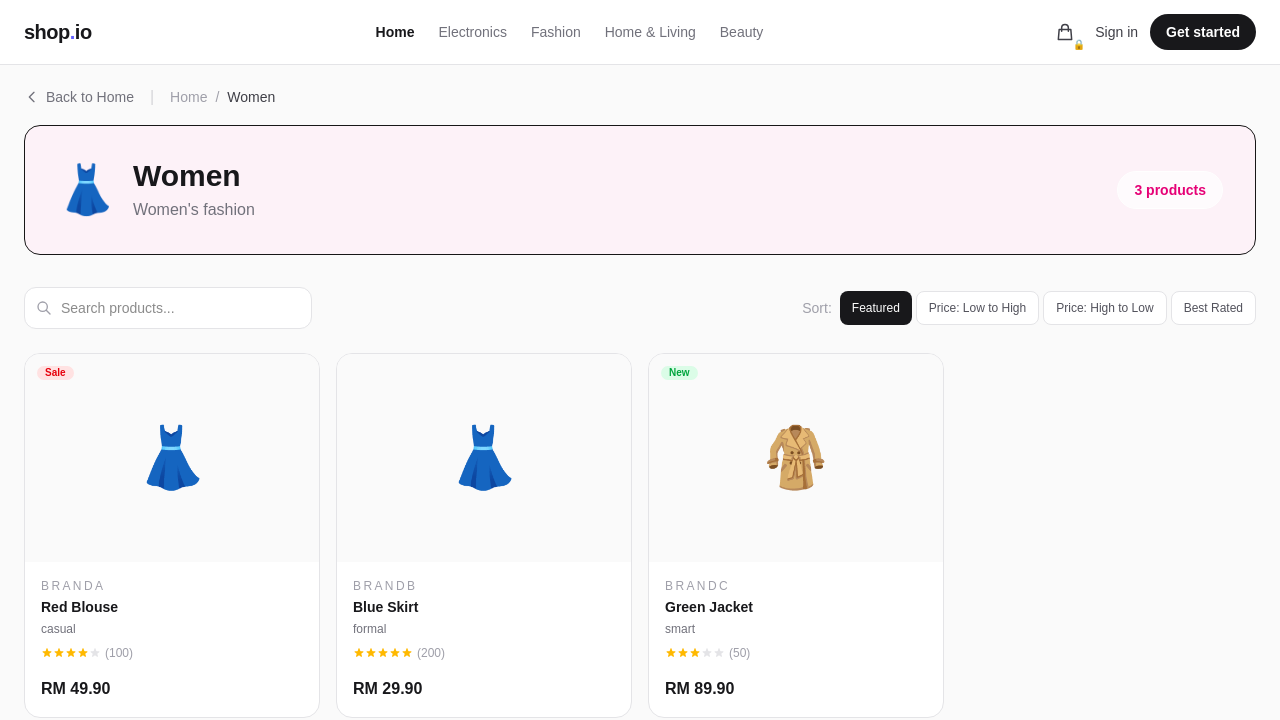
Test case: search input filters products by name
In the field with placeholder "Search products...": (168, 308) [24,287,312,329], type "blouse"
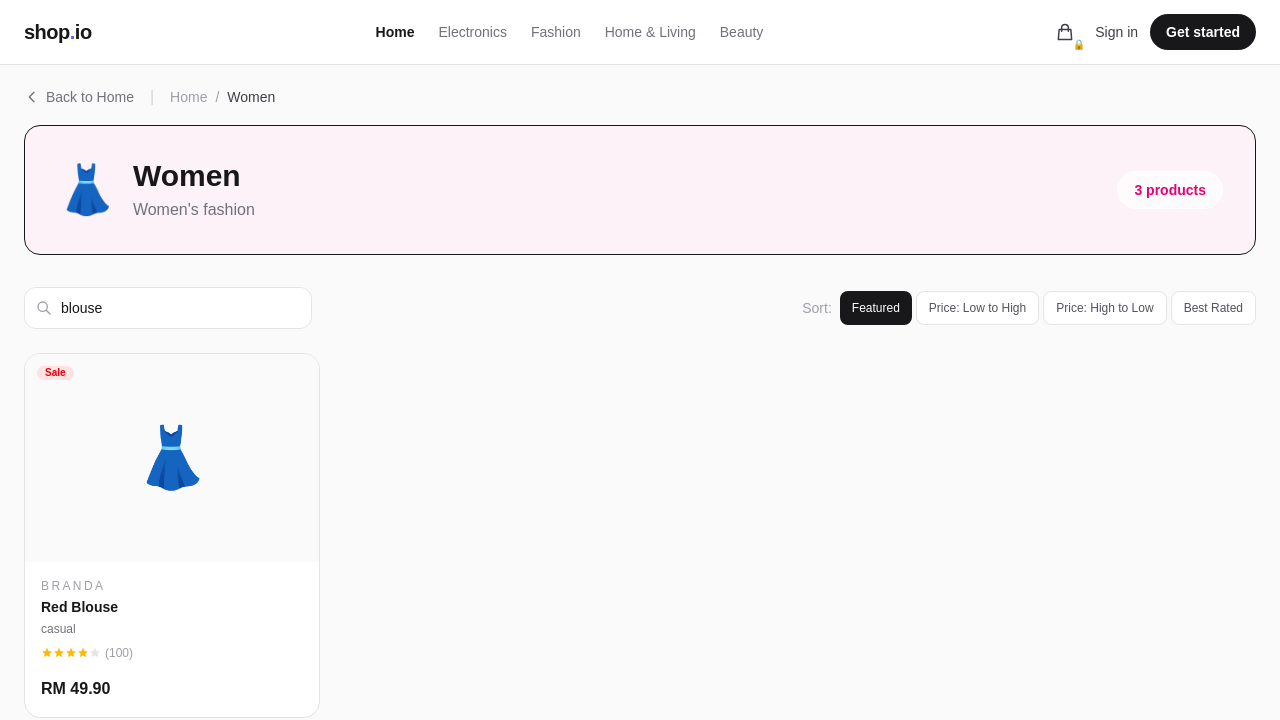
Expected: the heading "Red Blouse" is shown, [41,599,118,615]
Expected: the link "Blue Skirt" is gone
Expected: the link "Green Jacket" is gone
